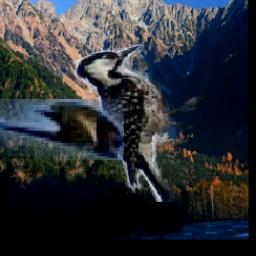Swallow: (0, 99, 125, 160)
Woodpecker: (73, 43, 209, 203)
